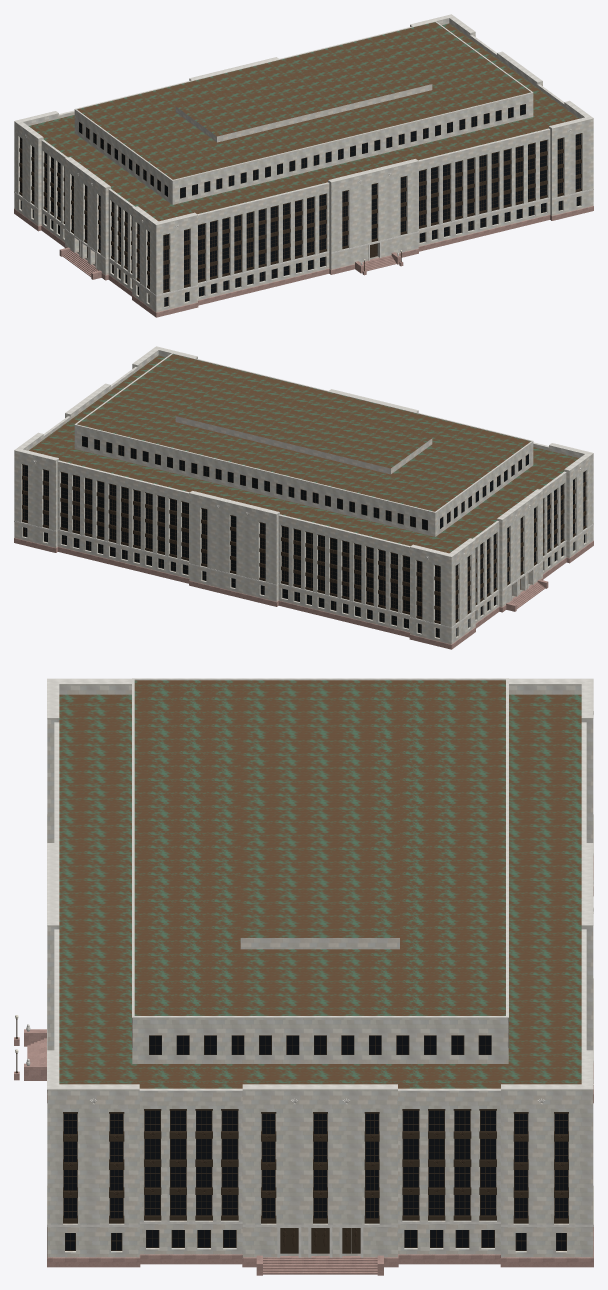
The model's file is SM_F01_LOCAnnex.glb.
The picture shows the model from 3 angles, top to bottom: view 1: azimuth 30°, elevation 25°; view 2: azimuth 150°, elevation 25°; view 3: azimuth 270°, elevation 25°; orthographic projection. The views are drawn at different scales.
Visible parts, largest first — view 1: SM_F01_LOCAnnex_LOD0; view 2: SM_F01_LOCAnnex_LOD0; view 3: SM_F01_LOCAnnex_LOD0.
Part boxes in pixels (bbox=[...]): SM_F01_LOCAnnex_LOD0: bbox=[14, 14, 593, 317]; SM_F01_LOCAnnex_LOD0: bbox=[14, 346, 593, 649]; SM_F01_LOCAnnex_LOD0: bbox=[14, 678, 593, 1275].
Size of what is drawn, in the model's own units: 127 by 31.2 by 72.84.
Materials: 8 (4 with a texture image).
